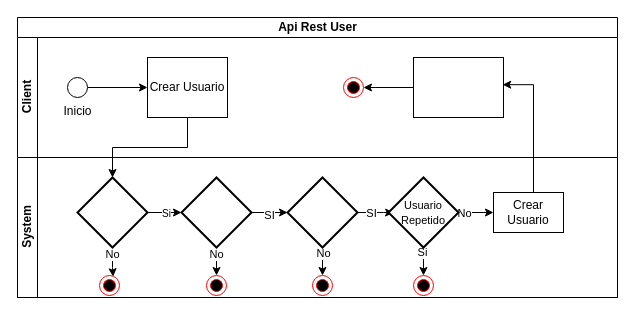
Image size: 635x315. Some labels were removed from this diagram. The shapes that lost their labels are listed below. From the top down, each one's centre as x and y in pixels, then its label:
[458,87]: Creación exitosa
[112,212]: Estructura json correcta
[216,212]: Email correcto
[322,212]: password valido
